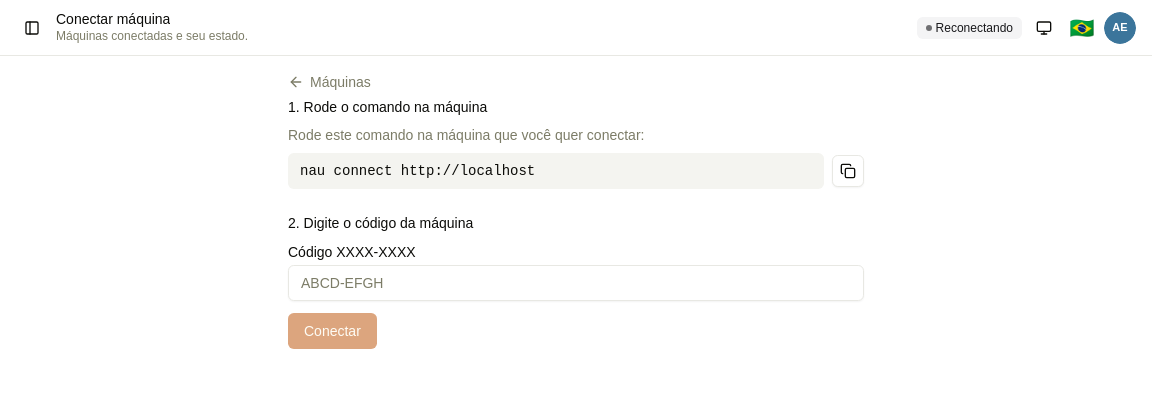
Scenario: machines connect › maps 400 to the invalid-code message
Type "zzzz-zzzz" into the field labelled "Código XXXX-XXXX".
click(576, 283); type("zzzz-zzzz")  # box [288,265,864,301]
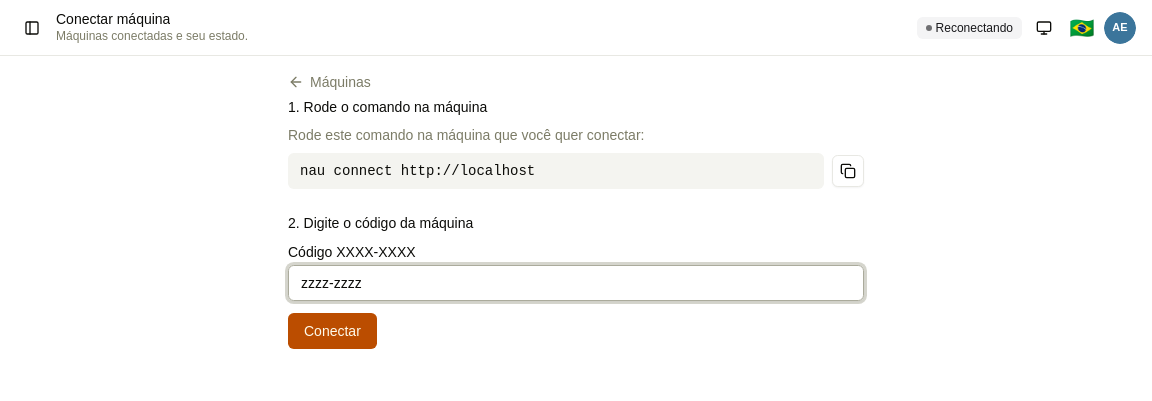
Click the button "Conectar".
click(332, 331)  # box [288,313,377,349]
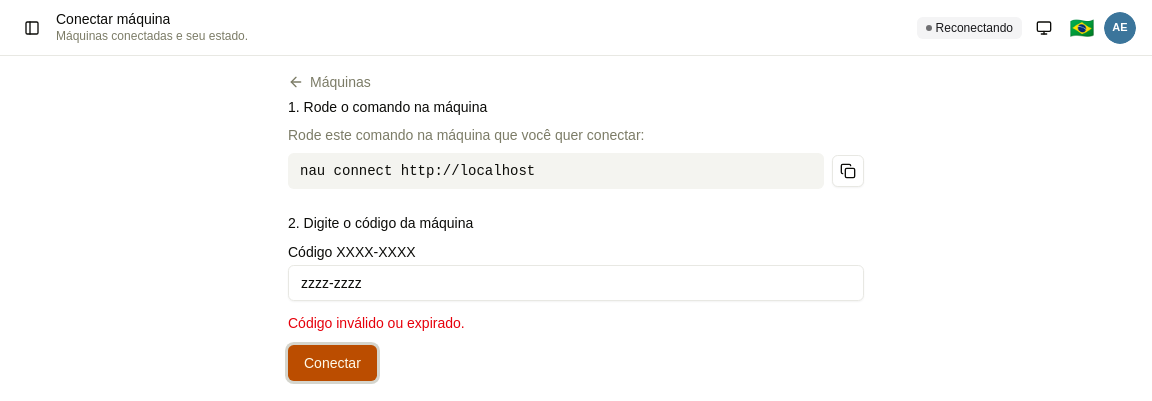
Now the message reads "Código inválido ou expirado.", box [288,315,465,331]
